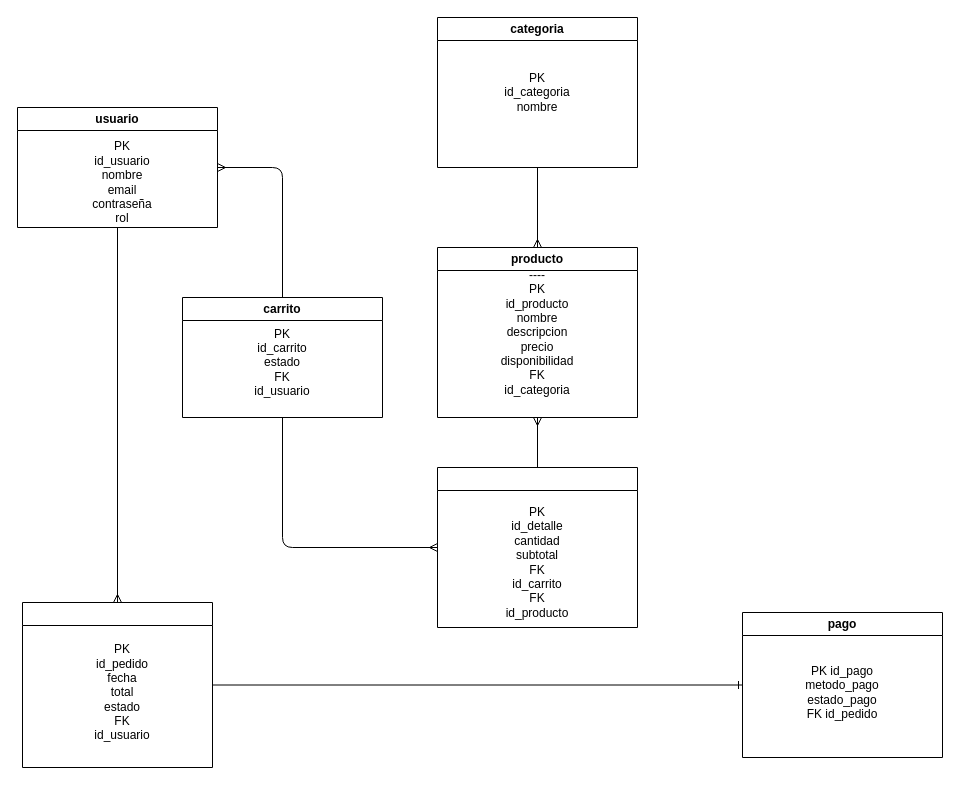
Image size: 960x785. Some labels were removed from this diagram. Here are the shapes that lost their labels. From the top down, the box of each, then its label:
(436, 466, 638, 628): detalle_carrito
(22, 602, 212, 768): perdido
